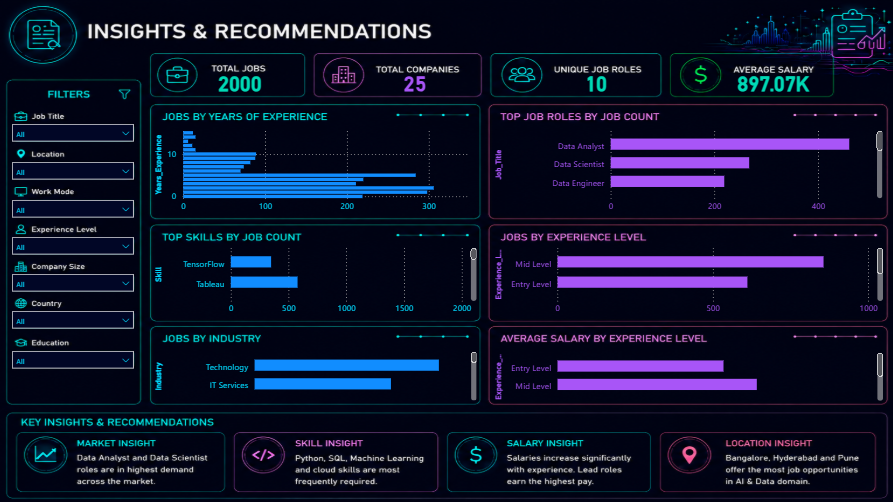

What the dashboard file says about the page in this screenshot:
{"tool":"powerbi","page":{"name":"Insights & Recommendations","canvas":[1280,720],"ordinal":6},"visuals":[{"type":"card","fields":{"Values":["ai_job_market job_market.Total Jobs"]},"box":[277.9,97.9,133.9,38.9],"z":0},{"type":"card","fields":{"Values":["ai_job_market job_market.Total Companies"]},"box":[530,98.9,131.7,38.3],"z":1000},{"type":"card","fields":{"Values":["ai_job_market job_market.Unique Job Roles"]},"box":[788.4,98.9,131.7,38.3],"z":2000},{"type":"card","fields":{"Values":["ai_job_market job_market.Average Salary"]},"box":[1041.1,98.9,131.7,38.3],"z":3000},{"type":"slicer","fields":{"Values":["ai_job_market job_market.Job_Title"]},"box":[10.6,167.1,194,46.9],"z":4000},{"type":"slicer","fields":{"Values":["ai_job_market job_market.Location"]},"box":[10.6,221.1,194,48],"z":5000},{"type":"slicer","fields":{"Values":["ai_job_market job_market.Work_Mode"]},"box":[10.6,276,194,48],"z":6000},{"type":"slicer","fields":{"Values":["ai_job_market job_market.Experience_Level"]},"box":[10.6,328.3,194,48],"z":7000},{"type":"slicer","fields":{"Values":["ai_job_market job_market.Company_Size"]},"box":[10.6,382,194,48],"z":8000},{"type":"slicer","fields":{"Values":["ai_job_market job_market.Country"]},"box":[10.6,434.9,194,48],"z":9000},{"type":"slicer","fields":{"Values":["ai_job_market job_market.Education"]},"box":[10.6,490.9,194,48],"z":10000},{"type":"clusteredBarChart","fields":{"Category":["ai_job_market job_market.Years_Experience"],"Y":["ai_job_market job_market.Total Jobs"]},"box":[218.4,174.7,470.3,137.7],"z":10001},{"type":"clusteredBarChart","fields":{"Category":["ai_job_market job_market.Industry"],"Y":["ai_job_market job_market.Total Jobs"]},"box":[218.4,490.5,470.3,87.3],"z":10002},{"type":"clusteredBarChart","fields":{"Category":["ai_job_market job_market.Job_Title"],"Y":["ai_job_market job_market.Total Jobs"]},"box":[703.8,174.7,564.4,137.7],"z":10003},{"type":"clusteredBarChart","fields":{"Category":["Skill Table.Skill"],"Y":["Skill Table.Skill Demand"]},"box":[218.8,341.2,470,117.5],"z":10004},{"type":"clusteredBarChart","fields":{"Category":["ai_job_market job_market.Experience_Level"],"Y":["ai_job_market job_market.Total Jobs"]},"box":[703.8,341.2,565,117.5],"z":10005},{"type":"clusteredBarChart","fields":{"Category":["ai_job_market job_market.Experience_Level"],"Y":["ai_job_market job_market.Average Salary"]},"box":[703.8,491.2,565,86.2],"z":10006}]}

Visuals, with their boxes in screenshot pixels (x1, y1, x2, y2), scaled from the page's 1280x720 canvas onto the 893x502 screenshot:
card - ai_job_market job_market.Total Jobs: box=[194, 68, 287, 95]
card - ai_job_market job_market.Total Companies: box=[370, 69, 462, 96]
card - ai_job_market job_market.Unique Job Roles: box=[550, 69, 642, 96]
card - ai_job_market job_market.Average Salary: box=[726, 69, 818, 96]
slicer - ai_job_market job_market.Job_Title: box=[7, 117, 143, 149]
slicer - ai_job_market job_market.Location: box=[7, 154, 143, 188]
slicer - ai_job_market job_market.Work_Mode: box=[7, 192, 143, 226]
slicer - ai_job_market job_market.Experience_Level: box=[7, 229, 143, 262]
slicer - ai_job_market job_market.Company_Size: box=[7, 266, 143, 300]
slicer - ai_job_market job_market.Country: box=[7, 303, 143, 337]
slicer - ai_job_market job_market.Education: box=[7, 342, 143, 376]
clusteredBarChart - ai_job_market job_market.Years_Experience x ai_job_market job_market.Total Jobs: box=[152, 122, 480, 218]
clusteredBarChart - ai_job_market job_market.Industry x ai_job_market job_market.Total Jobs: box=[152, 342, 480, 403]
clusteredBarChart - ai_job_market job_market.Job_Title x ai_job_market job_market.Total Jobs: box=[491, 122, 885, 218]
clusteredBarChart - Skill Table.Skill x Skill Table.Skill Demand: box=[153, 238, 481, 320]
clusteredBarChart - ai_job_market job_market.Experience_Level x ai_job_market job_market.Total Jobs: box=[491, 238, 885, 320]
clusteredBarChart - ai_job_market job_market.Experience_Level x ai_job_market job_market.Average Salary: box=[491, 342, 885, 403]
